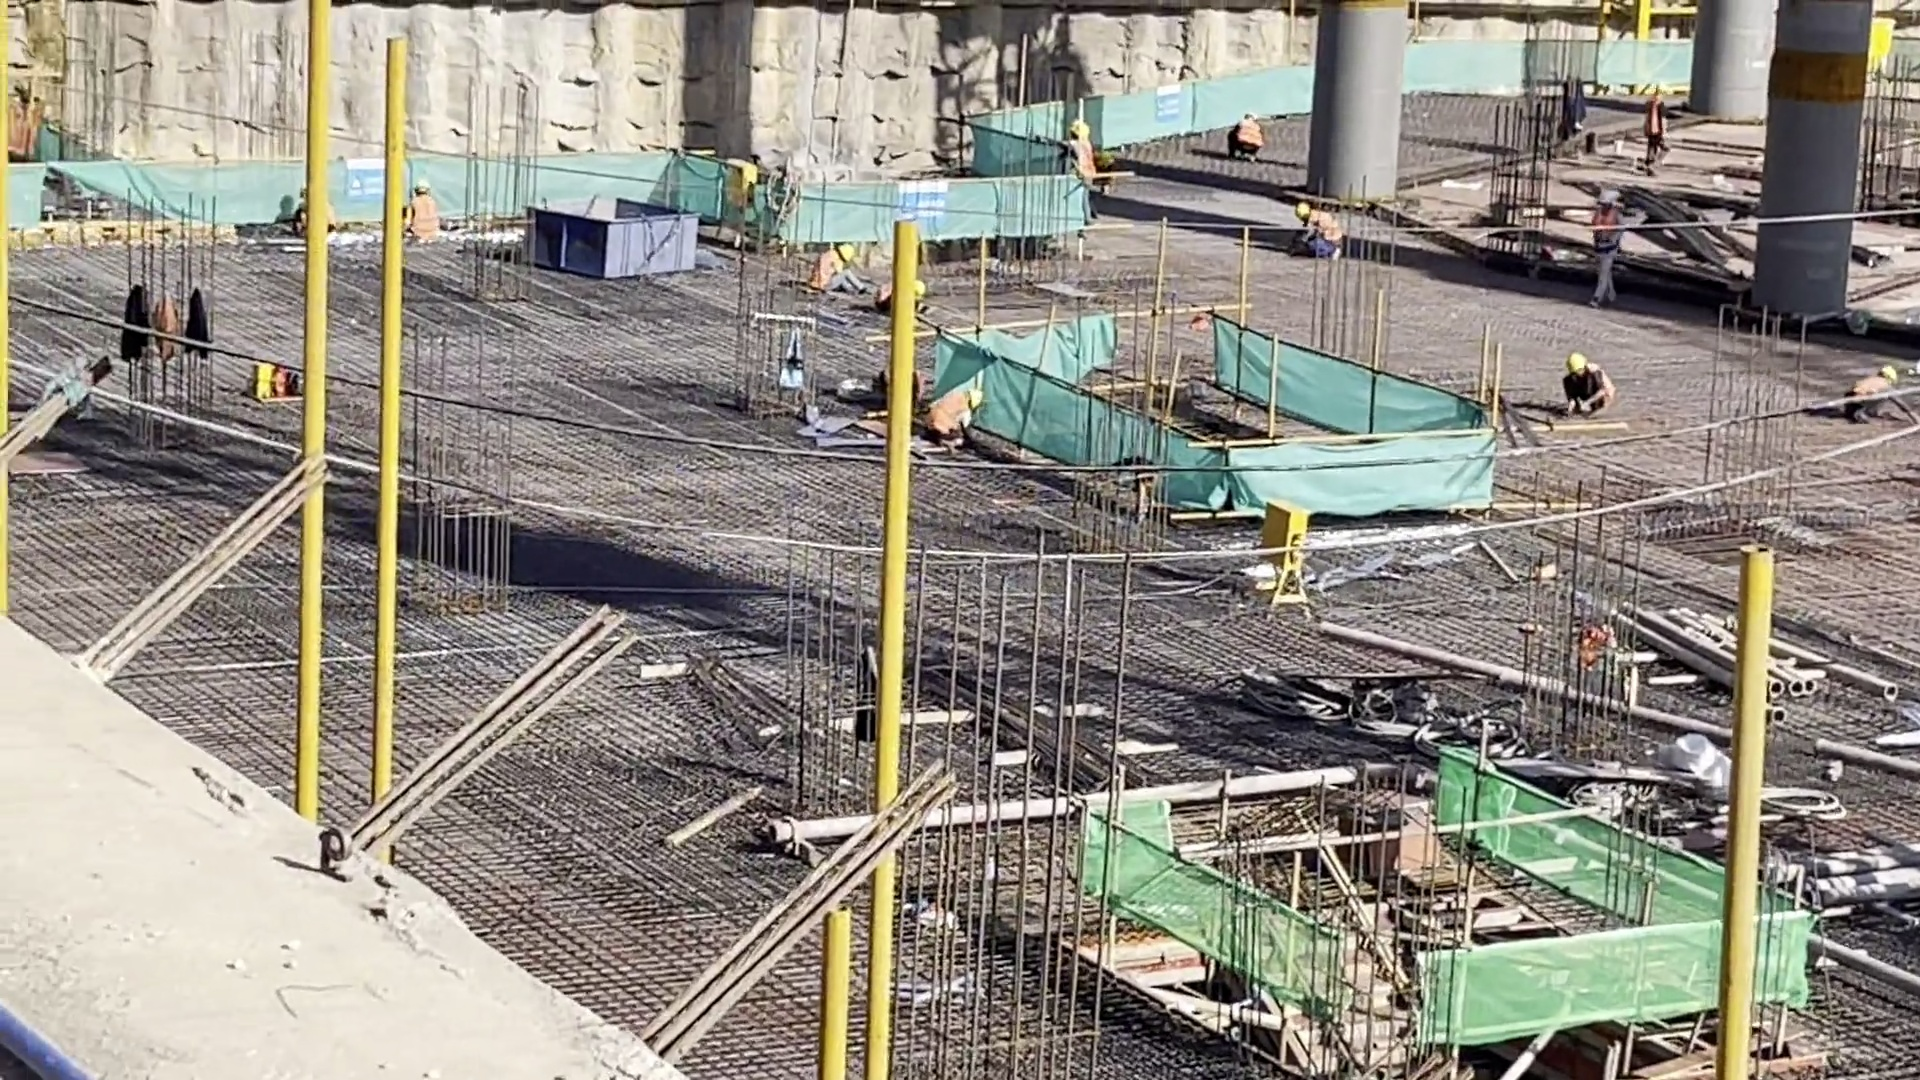ebox: (1259, 506, 1302, 606), (720, 156, 755, 214)
helmet: (1568, 353, 1588, 373), (968, 388, 985, 409), (1071, 122, 1089, 141), (837, 243, 855, 263), (1294, 201, 1311, 218), (1595, 187, 1612, 205), (1880, 367, 1897, 381), (915, 281, 927, 299), (414, 179, 428, 188)
hopper: (524, 196, 697, 279)
person: (1559, 357, 1617, 415), (1844, 368, 1901, 423), (928, 389, 986, 443), (1293, 201, 1343, 261), (1594, 189, 1618, 308), (815, 246, 867, 299), (1643, 84, 1671, 168), (406, 180, 440, 243), (1229, 110, 1266, 162)
slogan: (344, 158, 390, 208), (896, 181, 947, 224), (1156, 86, 1183, 119)
vest: (933, 395, 983, 435), (412, 200, 440, 241), (1647, 99, 1667, 138), (813, 254, 836, 288), (1309, 210, 1336, 238), (1594, 211, 1616, 245)
